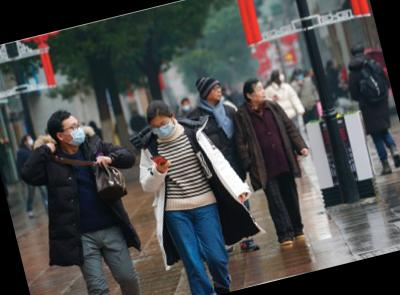with_mask: (63, 119, 88, 149), (151, 118, 177, 141), (275, 70, 287, 85), (181, 100, 193, 114), (296, 70, 307, 83), (27, 135, 36, 149)
without_mask: (250, 83, 270, 106), (207, 83, 226, 104)
